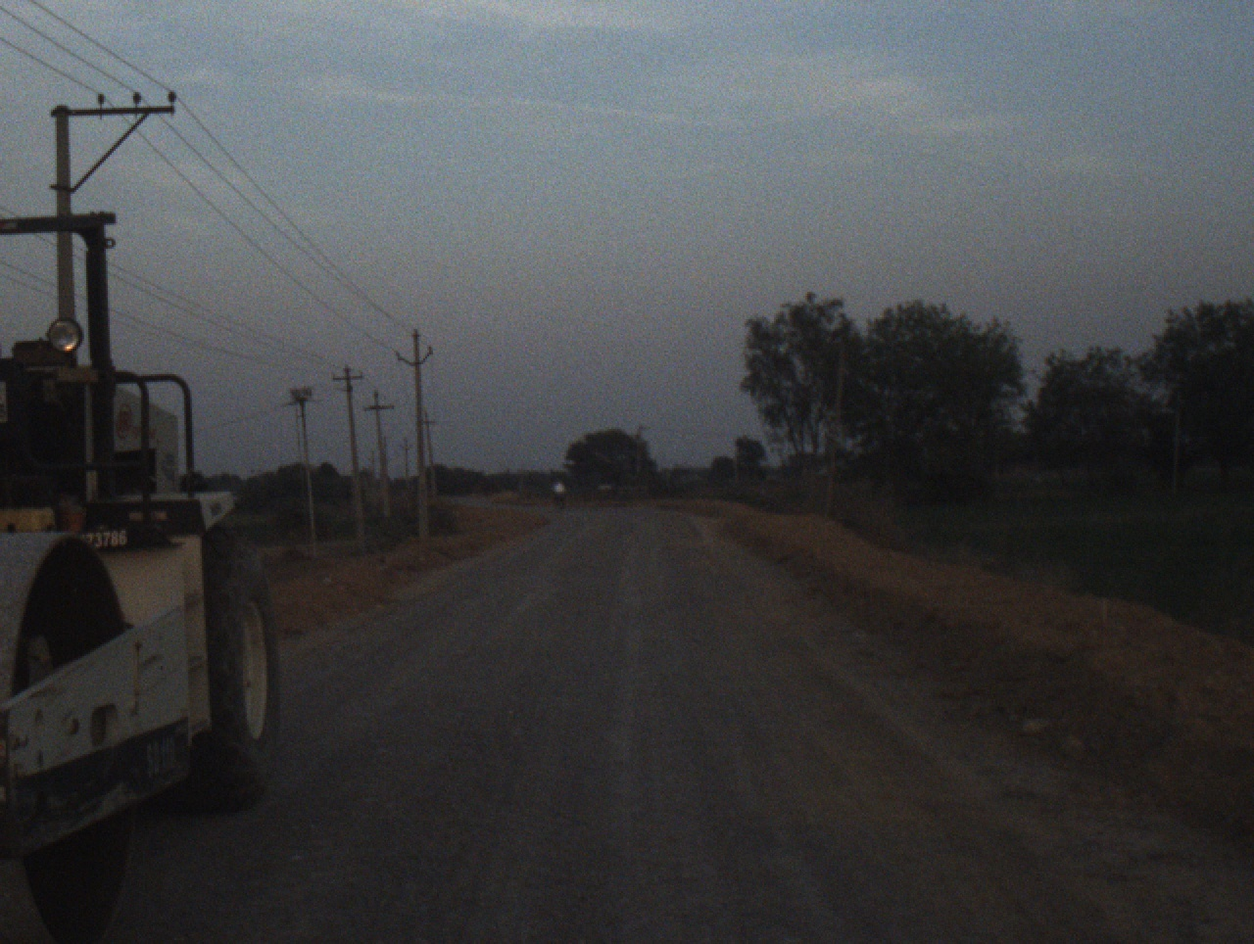bicycle: (555, 490, 563, 506)
rider: (553, 474, 565, 494)
vehicle fallback: (1, 205, 284, 944)
